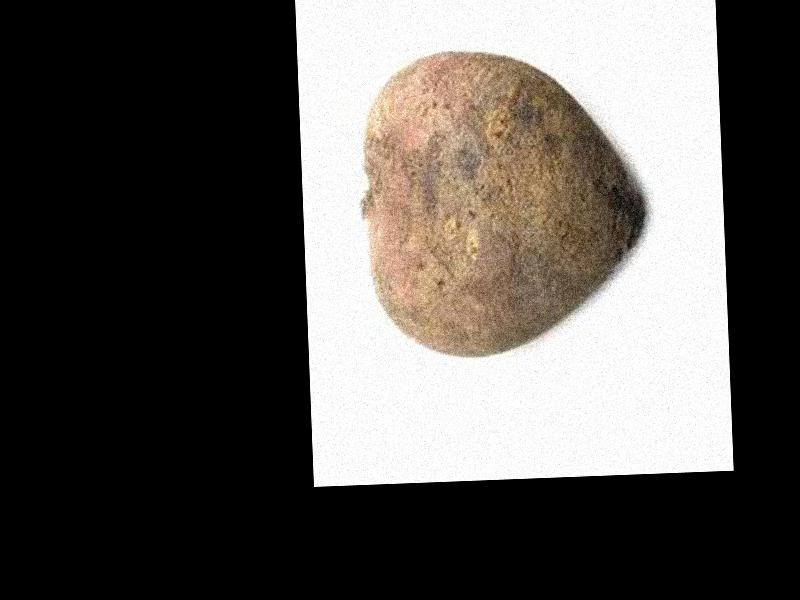Beet: (358, 43, 649, 363)
